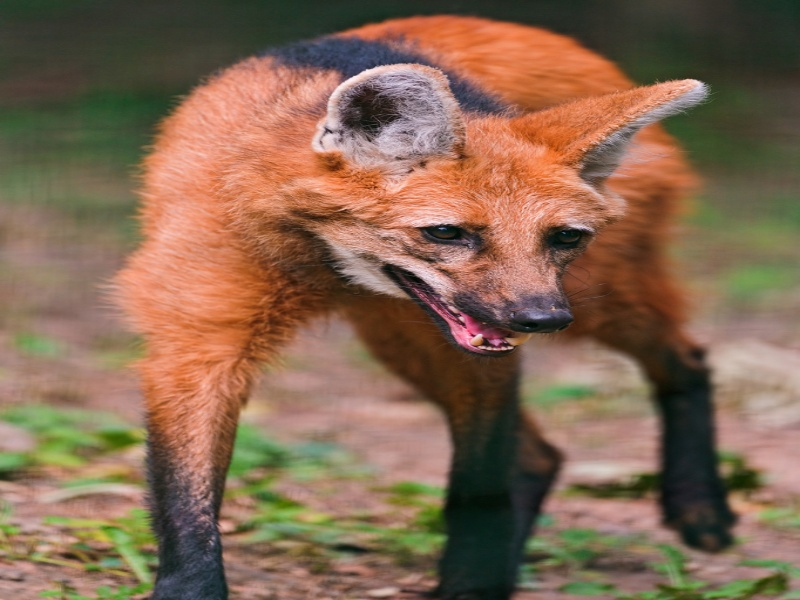fox: (129, 13, 726, 600)
